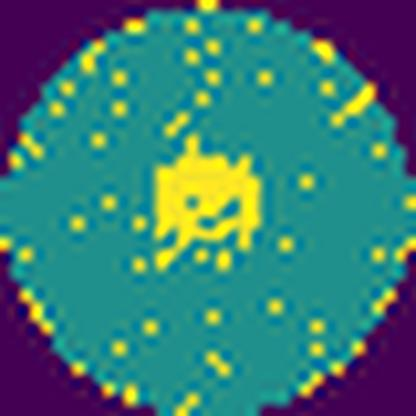Center: (156, 132, 262, 272)
